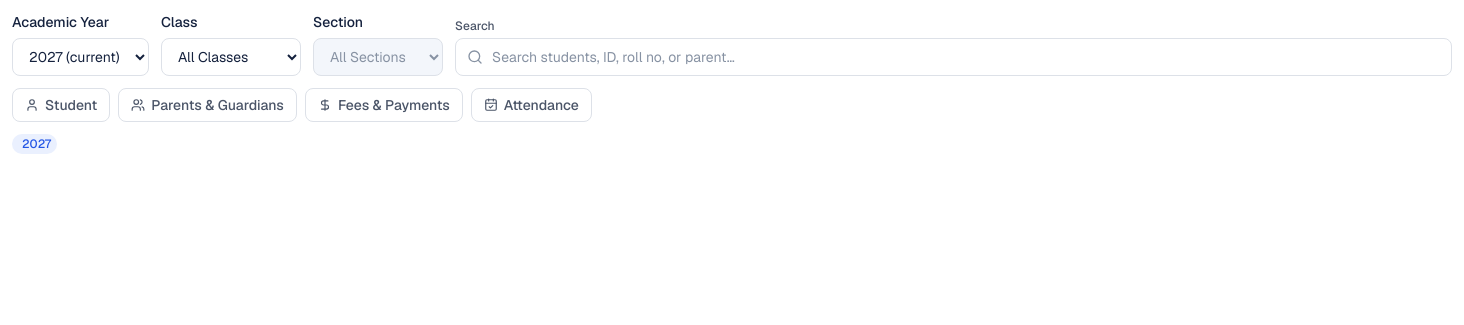
Test case: StudentListFilters — category tab bar › switches panels when a different tab is clicked
Click the button "Student" at (61, 105), box [12,88,110,122]
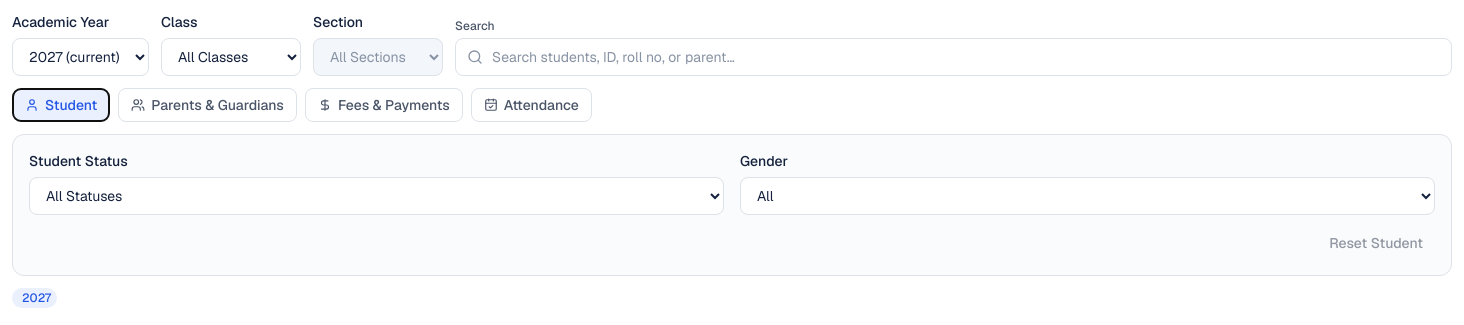
Expected: the dropdown below "Student Status" is shown, [29,177,724,215]
Click the button "Parents & Guardians" at (208, 105), box [118,88,297,122]
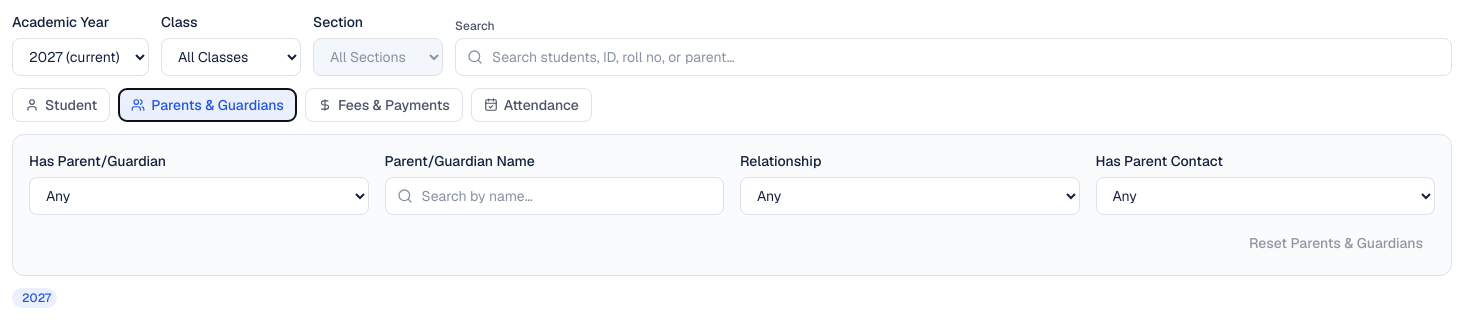
Expected: the dropdown below "Has Parent/Guardian" is shown, [29,177,368,215]
Expected: the text "Student Status" is gone
